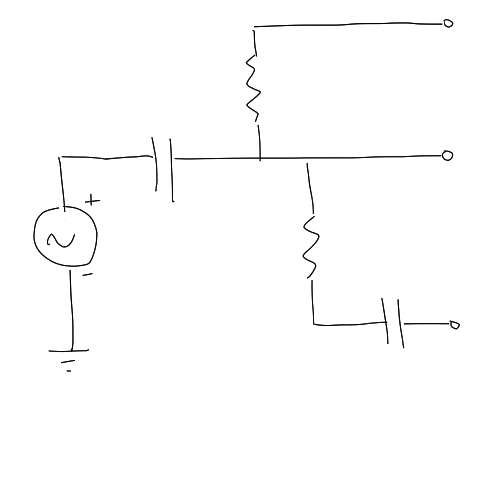acvs: (31, 189, 103, 282)
cap: (144, 128, 183, 209), (376, 290, 410, 355)
gnd: (41, 343, 101, 375)
probe: (445, 316, 465, 334), (438, 145, 456, 164), (440, 13, 458, 32)
res: (296, 203, 327, 288), (242, 49, 272, 131)
